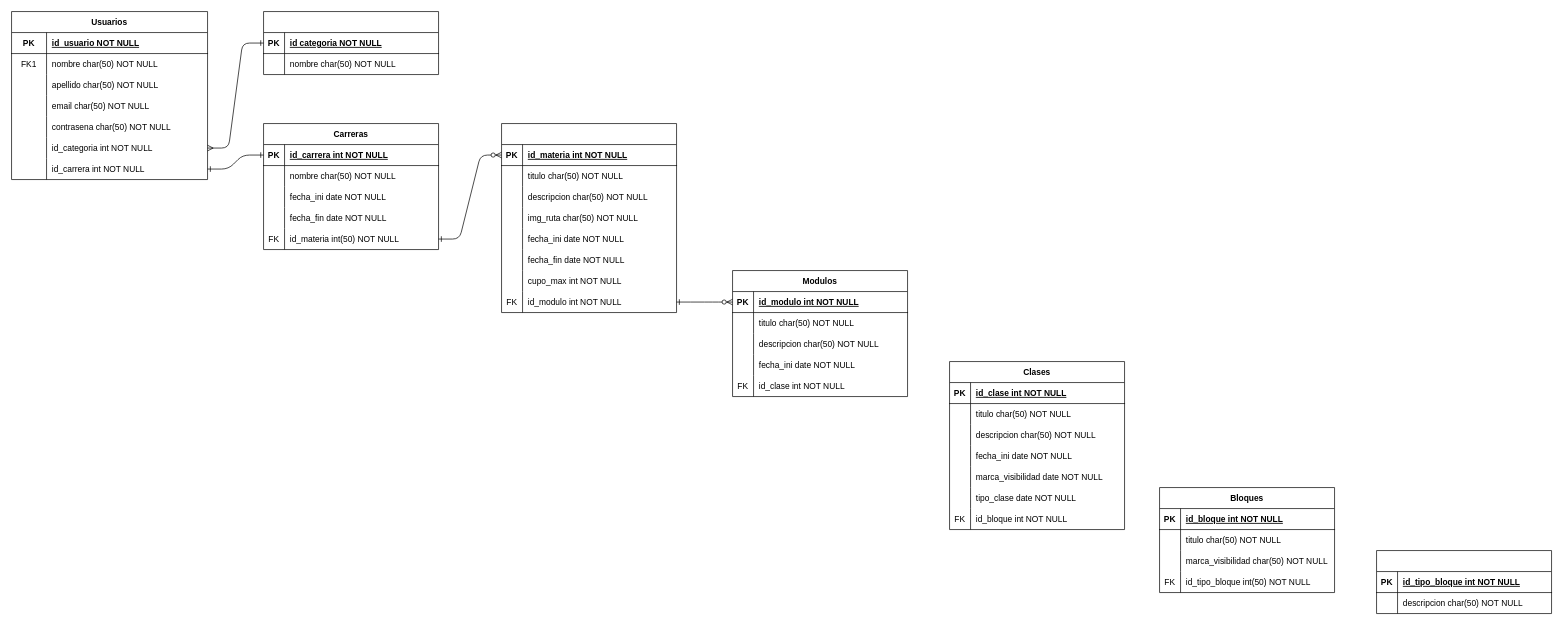
Image size: 1563x625. Some labels were removed from this diagram. Each missing label, with the box of its shape:
Categorias: (263, 11, 439, 75)
Materias: (501, 123, 677, 313)
Tipos_Bloques: (1376, 550, 1552, 614)
